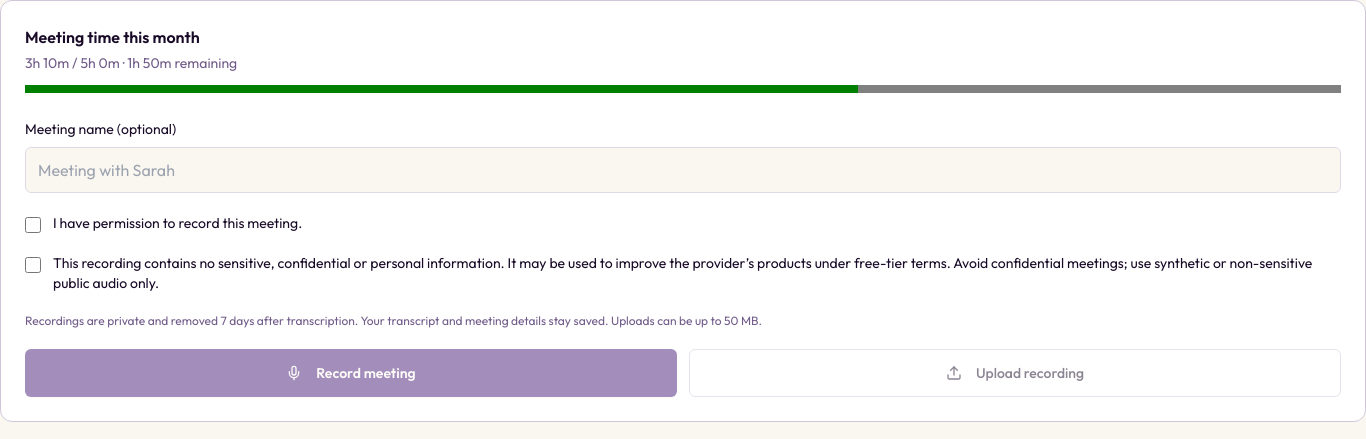
it: meeting capture › shows quota and requires recording consent and free-tier acceptance
Expected: the button "Record meeting" is disabled, [25,349,677,397]
Expected: the text "Avoid confidential meetings" is shown, [53,254,1312,292]
Click the checkbox labelled "I have permission to record this meeting." at (33, 225), box [25,217,41,233]
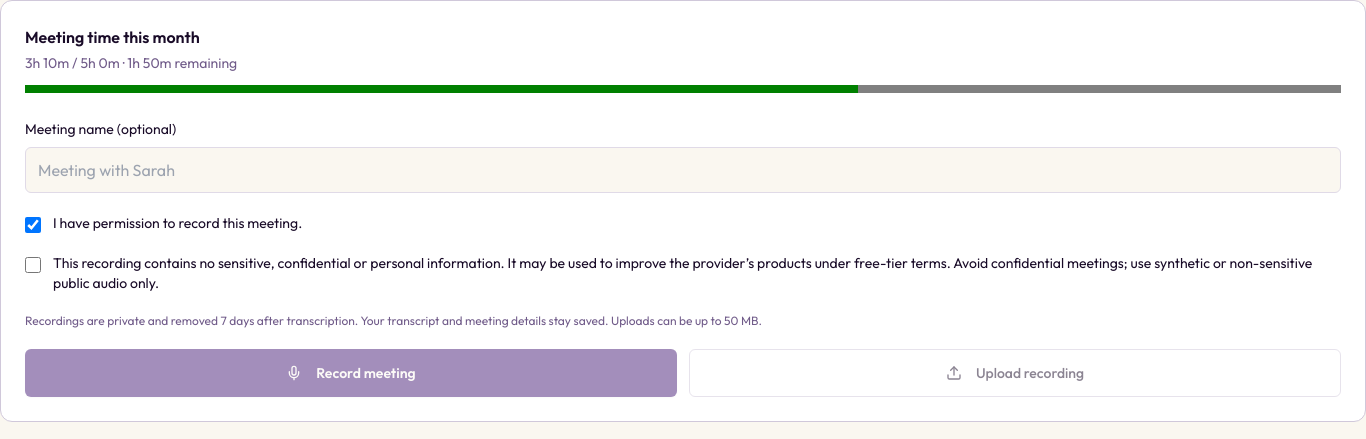
Click the 2nd checkbox at (33, 265), box [25,257,41,273]
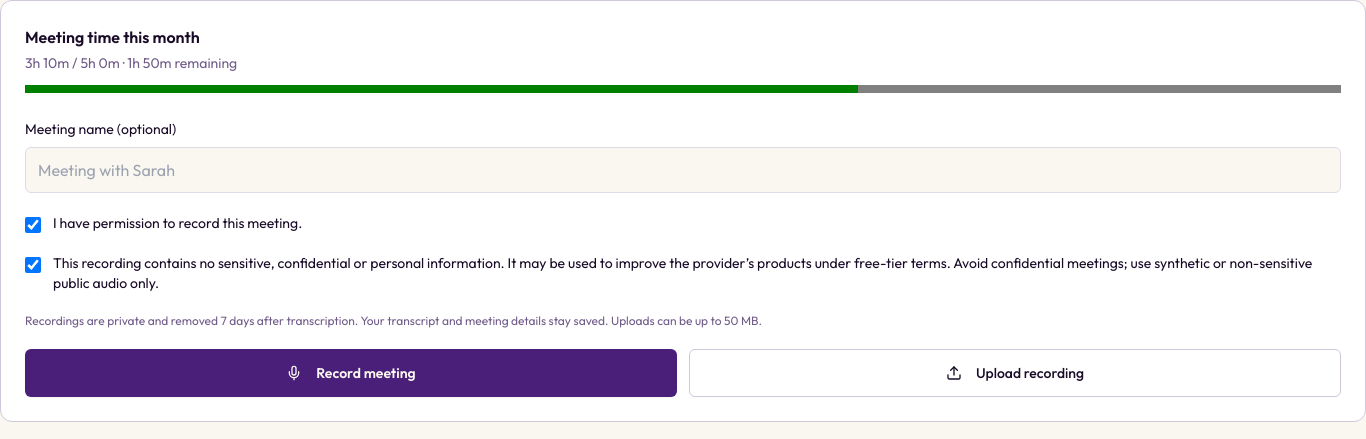
Expected: the button "Record meeting" is enabled, [25,349,677,397]
